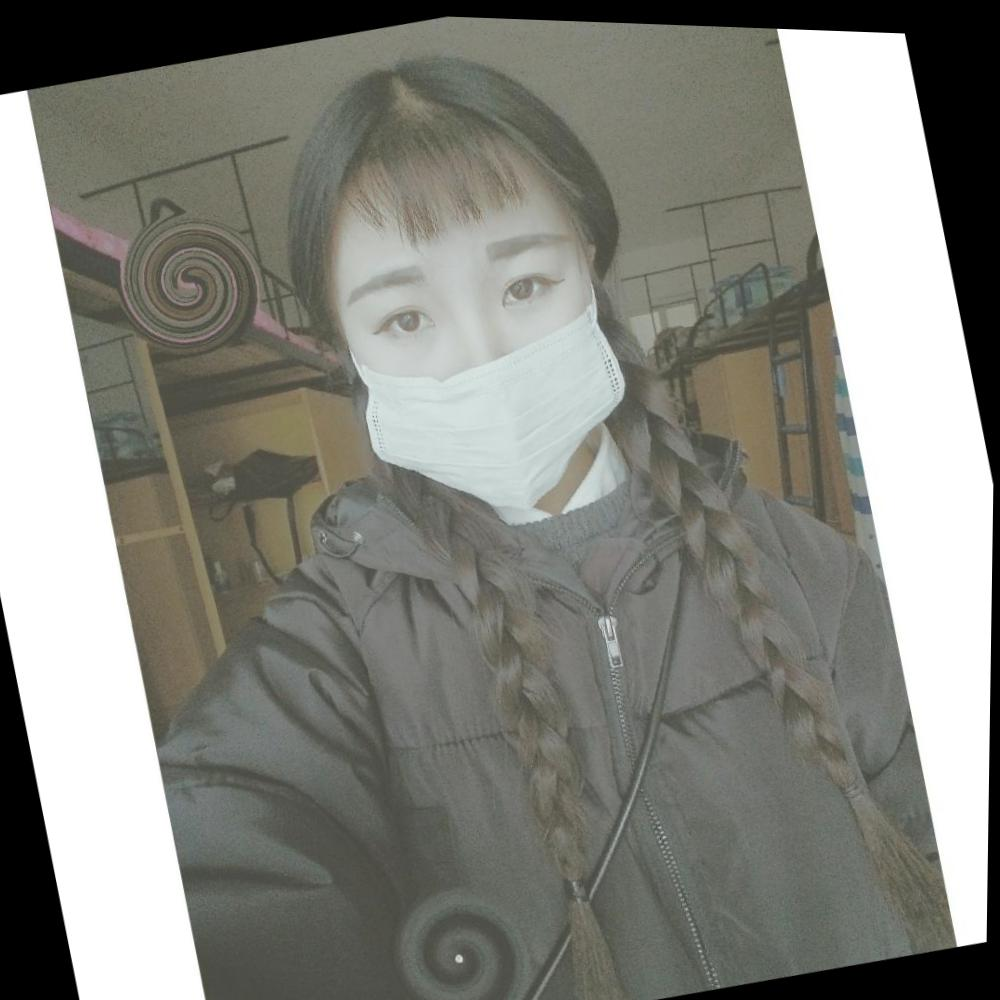WRONG: (320, 200, 647, 534)
